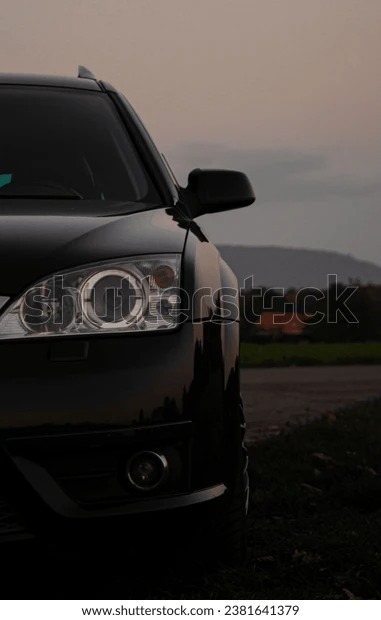car: (1, 54, 266, 543), (3, 69, 269, 546)
